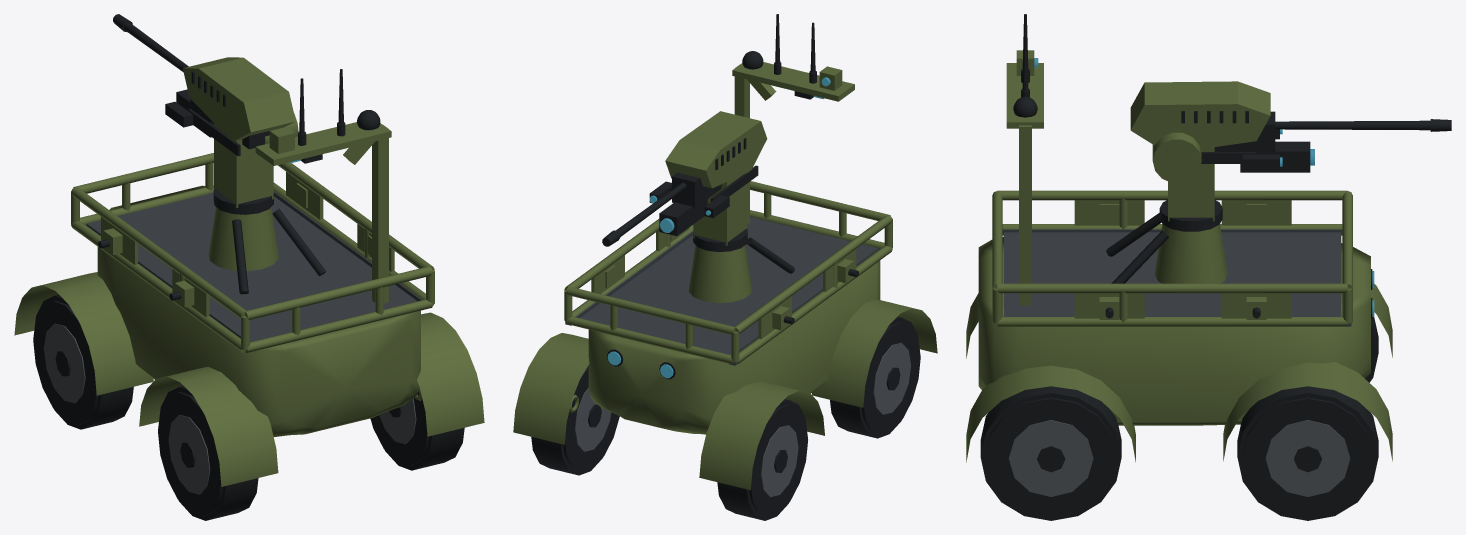
The model's file is ugv.glb.
3 views of the same model, side by side, from view 1: azimuth 30°, elevation 25°; view 2: azimuth 150°, elevation 25°; view 3: azimuth 270°, elevation 25° (orthographic). The views are drawn at different scales.
Size of the model in its own units: 1.34 by 2.06 by 2.08.
